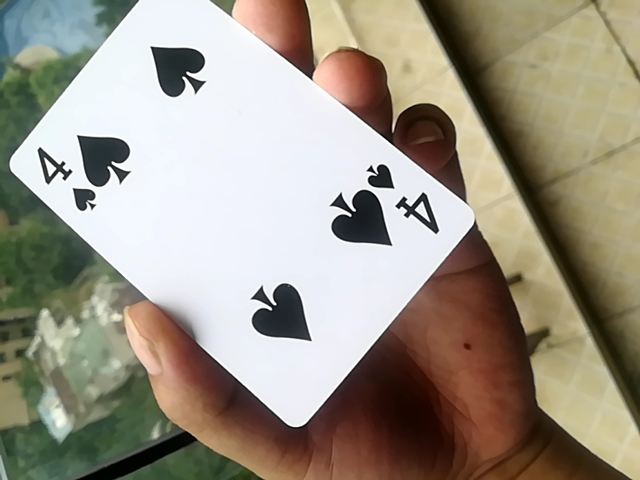ht 4: (4, 3, 485, 436)
